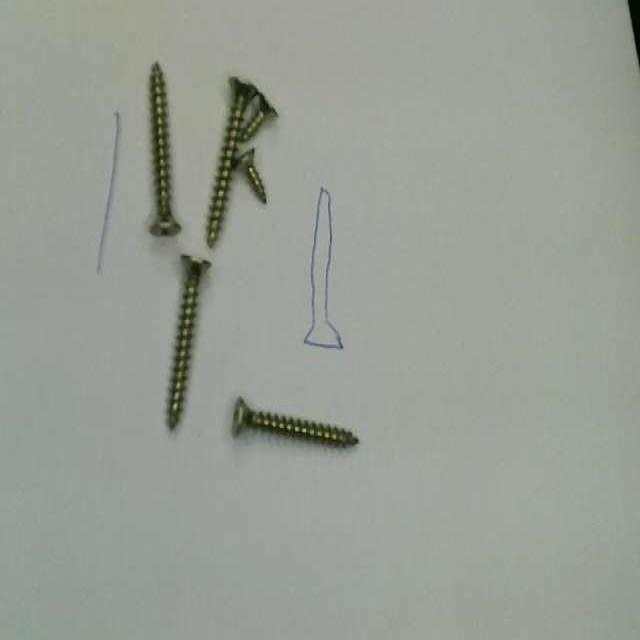Parafuso: (206, 78, 256, 247), (167, 255, 210, 429), (232, 398, 358, 447), (149, 62, 180, 235), (240, 92, 277, 141), (234, 148, 266, 203)
